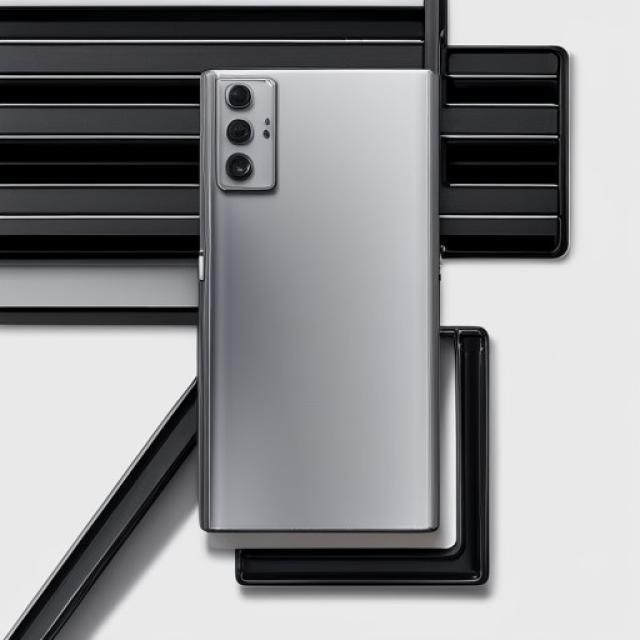phone: (202, 70, 434, 532)
